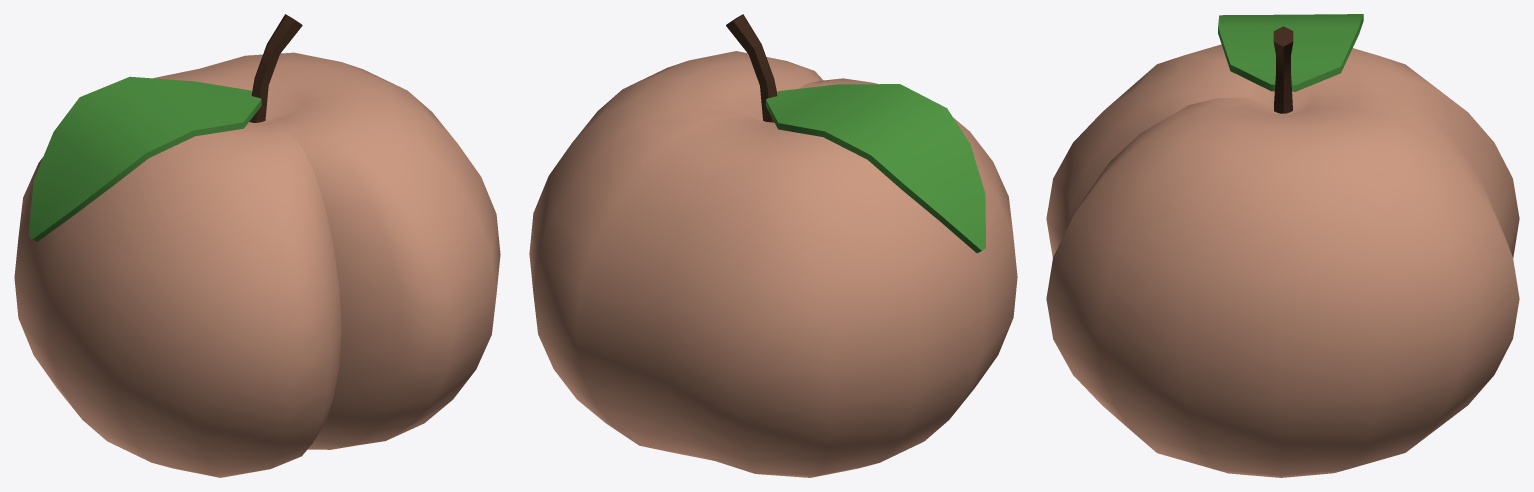
File: Peach.fbx
The picture shows the model from 3 angles, left to right: view 1: azimuth 30°, elevation 25°; view 2: azimuth 150°, elevation 25°; view 3: azimuth 270°, elevation 25°; orthographic projection. The views are drawn at different scales.
Parts seen in each view (by area): view 1: Peach1; view 2: Peach1; view 3: Peach1.
Boxes of the visible parts, x1,y1,x2,y2 form: Peach1: [14, 14, 500, 477]; Peach1: [529, 14, 1017, 477]; Peach1: [1046, 14, 1519, 477].
Size of the model in its own units: 2.03 by 1.86 by 1.9.
